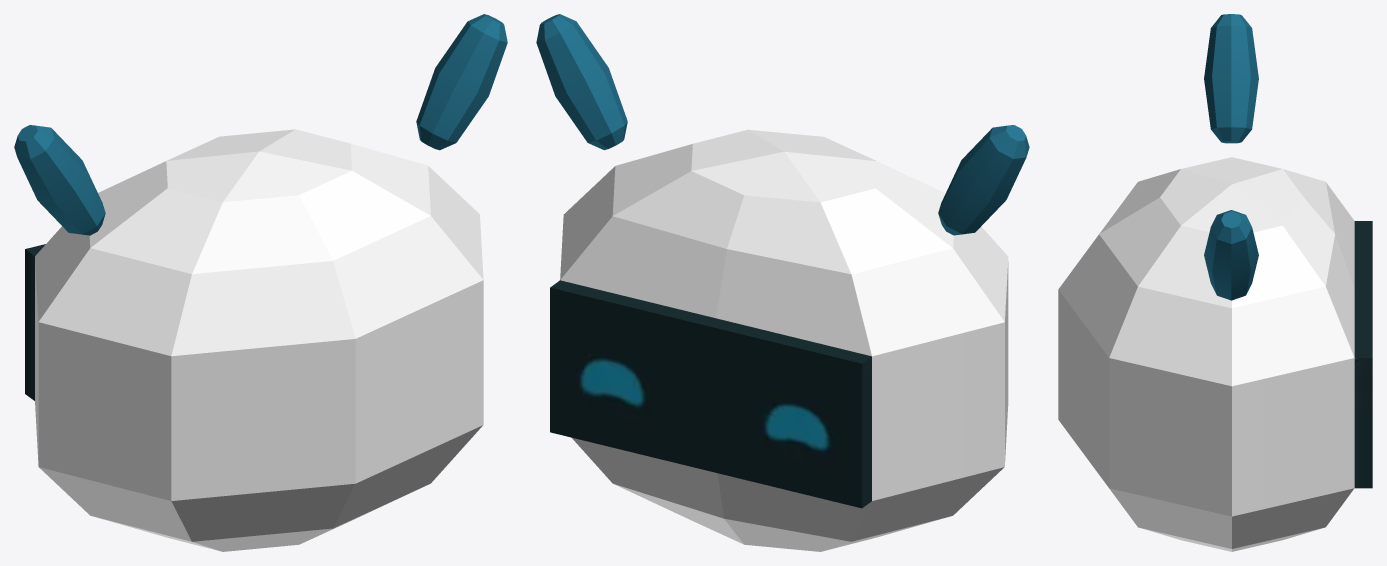
File: robotHead.glb
3 renders of one model, left to right at view 1: azimuth 30°, elevation 25°; view 2: azimuth 150°, elevation 25°; view 3: azimuth 270°, elevation 25°, orthographic. The views are drawn at different scales.
Visible parts, largest first — view 1: robotHead; view 2: robotHead; view 3: robotHead.
Boxes of the visible parts, box(x1,y1,x2,y2) form: robotHead: box(14, 14, 507, 551); robotHead: box(536, 14, 1029, 551); robotHead: box(1058, 14, 1372, 551).
Size of the model in its own units: 0.3684 by 0.3316 by 0.2287.
1 material, 1 textured.
